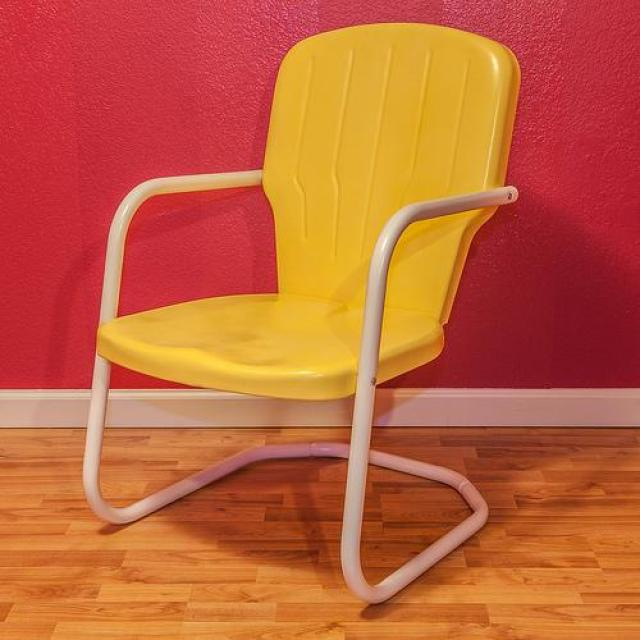chair: (82, 23, 522, 608)
